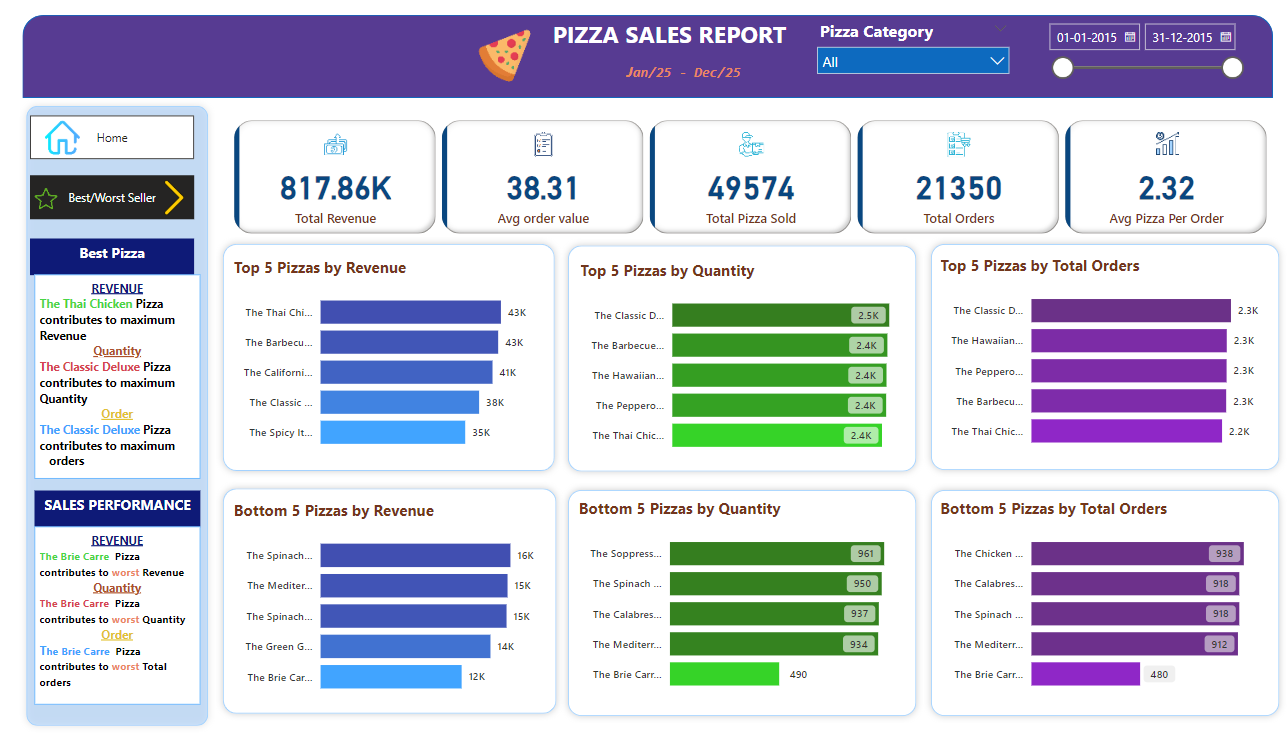

The dashboard page shown, as its layout file describes it:
{"tool":"powerbi","page":{"name":"Best/Worst Seller","canvas":[1500,850],"ordinal":1},"visuals":[{"type":"cardVisual","fields":{"Data":["pizza_sales.Total Revenue","pizza_sales.Avg order value","pizza_sales.Total Pizza Sold","pizza_sales.Total Orders","pizza_sales.Avg Pizza Per Order"]},"box":[270,142,1196,140],"z":0},{"type":"shape","box":[32.5,27.5,1432.5,95],"z":1000},{"type":"shape","box":[30,124,224,726],"z":2000},{"type":"textbox","box":[615,25,317.5,50],"z":3000},{"type":"textbox","box":[715,75,150,47.5],"z":4000},{"type":"image","box":[532.5,37.5,105,72.5],"z":5000},{"type":"shape","box":[254,282,396,276],"z":6000},{"type":"textbox","box":[42,284,188,42],"z":7000},{"type":"textbox","box":[46,324,190,234],"z":8000},{"type":"textbox","box":[46,572,190,42],"z":9000},{"type":"textbox","box":[46,614,190,204],"z":10000},{"type":"slicer","fields":{"Values":["pizza_sales.pizza_category"]},"box":[933.3,28.3,240,95],"z":11000},{"type":"slicer","fields":{"Values":["pizza_sales.order_date"]},"box":[1196,28,244,94],"z":12000},{"type":"shape","box":[650,283.3,415,275],"z":13000},{"type":"shape","box":[1065,281.7,415,275],"z":14000},{"type":"shape","box":[254,562,398,274],"z":15000},{"type":"shape","box":[650,563.3,415,275],"z":16000},{"type":"shape","box":[1065,563.3,415,275],"z":17000},{"type":"barChart","title":"Top 5 Pizzas by Revenue","fields":{"Y":["pizza_sales.Total Revenue"],"Category":["pizza_sales.pizza_name"]},"box":[270,304,366,234],"z":18000},{"type":"barChart","title":"Bottom 5 Pizzas by Revenue","fields":{"Y":["pizza_sales.Total Revenue"],"Category":["pizza_sales.pizza_name"]},"box":[270,582,366,236],"z":19000},{"type":"barChart","title":"Top 5 Pizzas by Quantity","fields":{"Category":["pizza_sales.pizza_name"],"Y":["pizza_sales.Total Pizza Sold"]},"box":[666,308,388,234],"z":20000},{"type":"barChart","title":"Bottom 5 Pizzas by Quantity","fields":{"Category":["pizza_sales.pizza_name"],"Y":["Sum(pizza_sales.quantity)"]},"box":[665.8,581.6,384.2,234.2],"z":21000},{"type":"barChart","title":"Bottom 5 Pizzas by Total Orders","fields":{"Category":["pizza_sales.pizza_name"],"Y":["pizza_sales.Total Orders"]},"box":[1078.9,581.6,384.2,234.2],"z":22000},{"type":"barChart","title":"Top 5 Pizzas by Total Orders","fields":{"Category":["pizza_sales.pizza_name"],"Y":["pizza_sales.Total Orders"]},"box":[1078.9,302.6,384.2,234.2],"z":23000},{"type":"pageNavigator","box":[42,212,188,50],"z":23001},{"type":"pageNavigator","box":[42,142,188,50],"z":23002},{"type":"image","box":[180,212,52,50],"z":23003},{"type":"image","box":[46,142,64,50],"z":23004},{"type":"image","box":[42,202,36,70],"z":23005}]}

Visuals, with their boxes in screenshot pixels (x1, y1, x2, y2), scaled from the page's 1500x850 canvas onto the 1287x733 screenshot:
cardVisual - pizza_sales.Total Revenue x pizza_sales.Avg order value: pyautogui.locateOnScreen(232, 122, 1258, 243)
shape: pyautogui.locateOnScreen(28, 24, 1257, 106)
shape: pyautogui.locateOnScreen(26, 107, 218, 732)
textbox: pyautogui.locateOnScreen(528, 22, 800, 65)
textbox: pyautogui.locateOnScreen(613, 65, 742, 106)
image: pyautogui.locateOnScreen(457, 32, 547, 95)
shape: pyautogui.locateOnScreen(218, 243, 558, 481)
textbox: pyautogui.locateOnScreen(36, 245, 197, 281)
textbox: pyautogui.locateOnScreen(39, 279, 202, 481)
textbox: pyautogui.locateOnScreen(39, 493, 202, 529)
textbox: pyautogui.locateOnScreen(39, 529, 202, 705)
slicer - pizza_sales.pizza_category: pyautogui.locateOnScreen(801, 24, 1007, 106)
slicer - pizza_sales.order_date: pyautogui.locateOnScreen(1026, 24, 1236, 105)
shape: pyautogui.locateOnScreen(558, 244, 914, 481)
shape: pyautogui.locateOnScreen(914, 243, 1270, 480)
shape: pyautogui.locateOnScreen(218, 485, 559, 721)
shape: pyautogui.locateOnScreen(558, 486, 914, 723)
shape: pyautogui.locateOnScreen(914, 486, 1270, 723)
"Top 5 Pizzas by Revenue" barChart: pyautogui.locateOnScreen(232, 262, 546, 464)
"Bottom 5 Pizzas by Revenue" barChart: pyautogui.locateOnScreen(232, 502, 546, 705)
"Top 5 Pizzas by Quantity" barChart: pyautogui.locateOnScreen(571, 266, 904, 467)
"Bottom 5 Pizzas by Quantity" barChart: pyautogui.locateOnScreen(571, 502, 901, 704)
"Bottom 5 Pizzas by Total Orders" barChart: pyautogui.locateOnScreen(926, 502, 1255, 704)
"Top 5 Pizzas by Total Orders" barChart: pyautogui.locateOnScreen(926, 261, 1255, 463)
pageNavigator: pyautogui.locateOnScreen(36, 183, 197, 226)
pageNavigator: pyautogui.locateOnScreen(36, 122, 197, 166)
image: pyautogui.locateOnScreen(154, 183, 199, 226)
image: pyautogui.locateOnScreen(39, 122, 94, 166)
image: pyautogui.locateOnScreen(36, 174, 67, 235)
